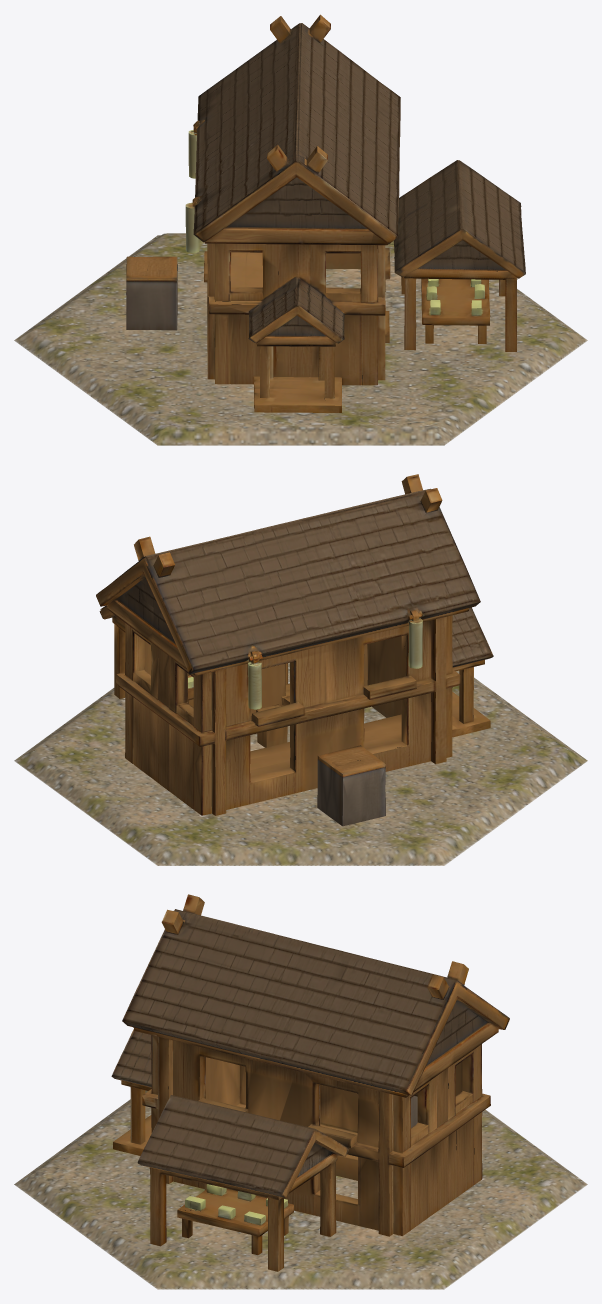
The model's file is war-hall.glb.
3 views of the same model, one above another, from view 1: azimuth 30°, elevation 25°; view 2: azimuth 150°, elevation 25°; view 3: azimuth 270°, elevation 25° (orthographic).
Parts seen in each view (by area): view 1: architecture, ground; view 2: architecture, ground; view 3: architecture, ground.
Part boxes in pixels (x1,y1,x2,y2): architecture: (126, 14, 525, 412); ground: (14, 233, 587, 445); architecture: (96, 474, 493, 826); ground: (14, 662, 587, 865); architecture: (111, 894, 509, 1271); ground: (14, 1090, 587, 1289).
Size of the model in its own units: 1.59 by 0.8905 by 1.84.
Materials: 2 (2 with a texture image).
